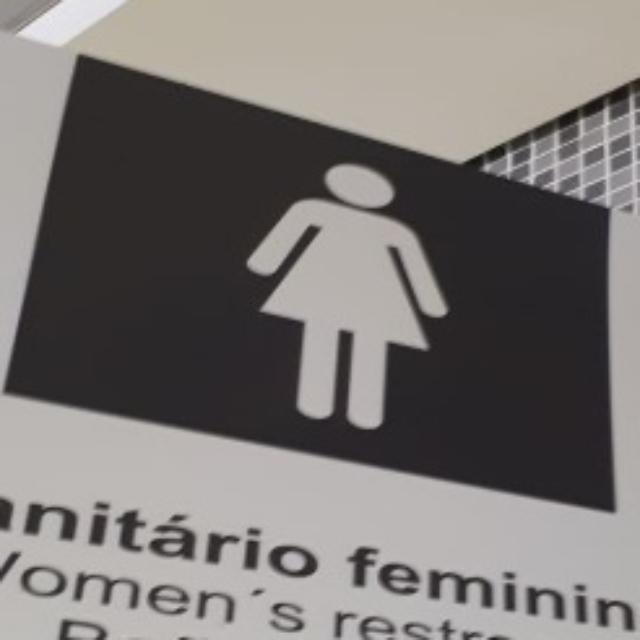wc nu: (10, 62, 614, 510)
